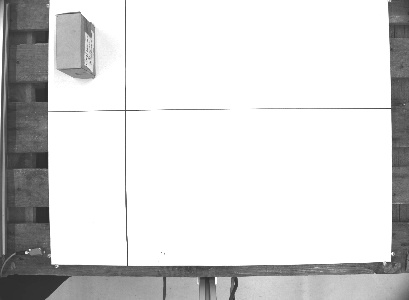b6: (52, 8, 97, 82)
